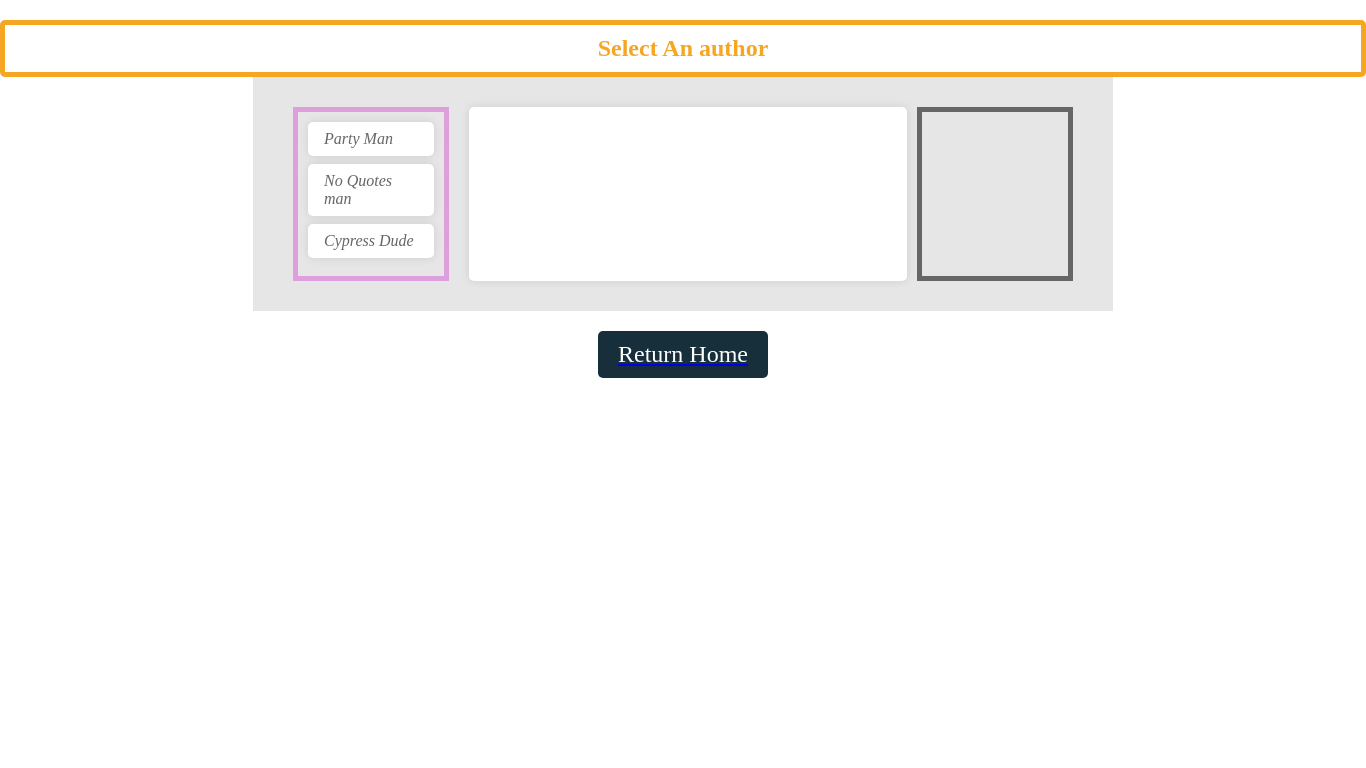
Test: SearchAuthor › returns to the homepage when the 'Return Home' button is clicked
Click the button with class "home-button" at (683,355), box [598, 331, 768, 378]
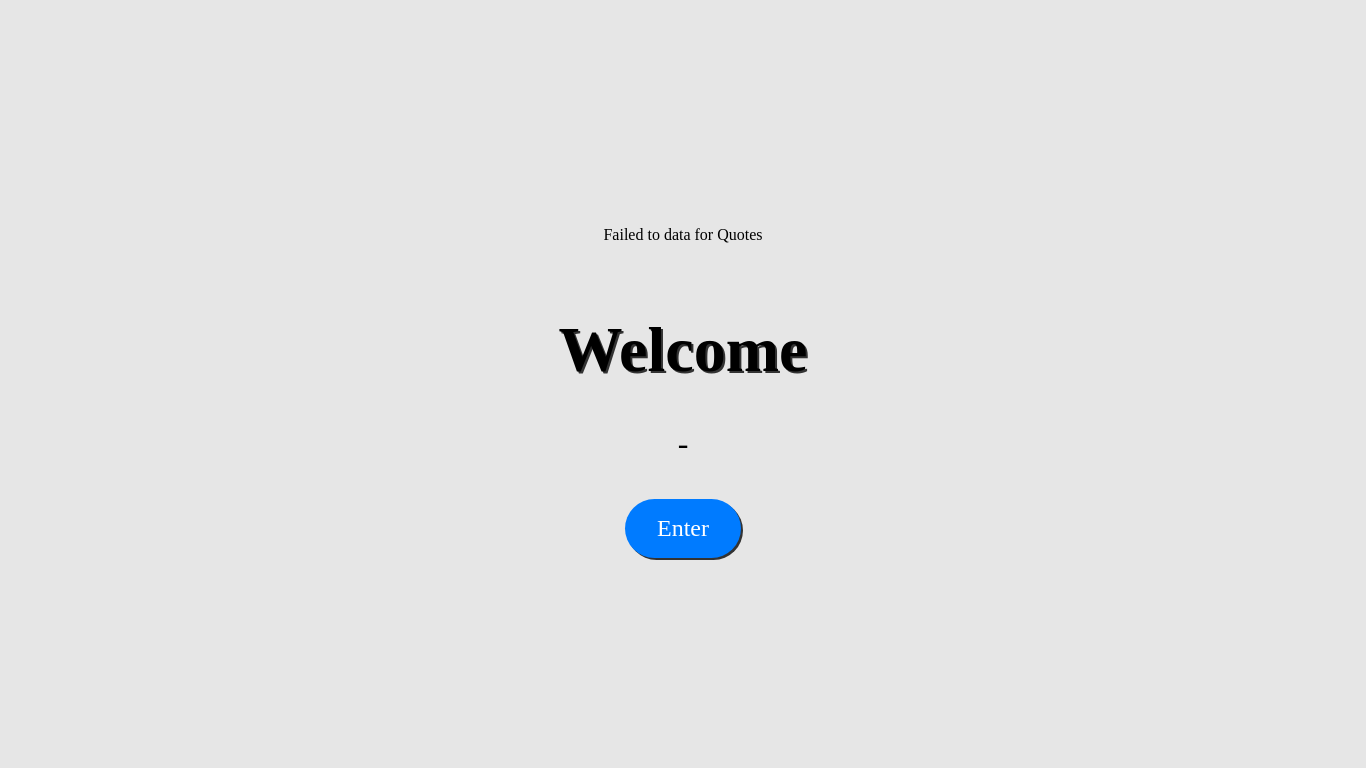
Now the heading "Welcome" is shown, box [559, 313, 807, 387]
